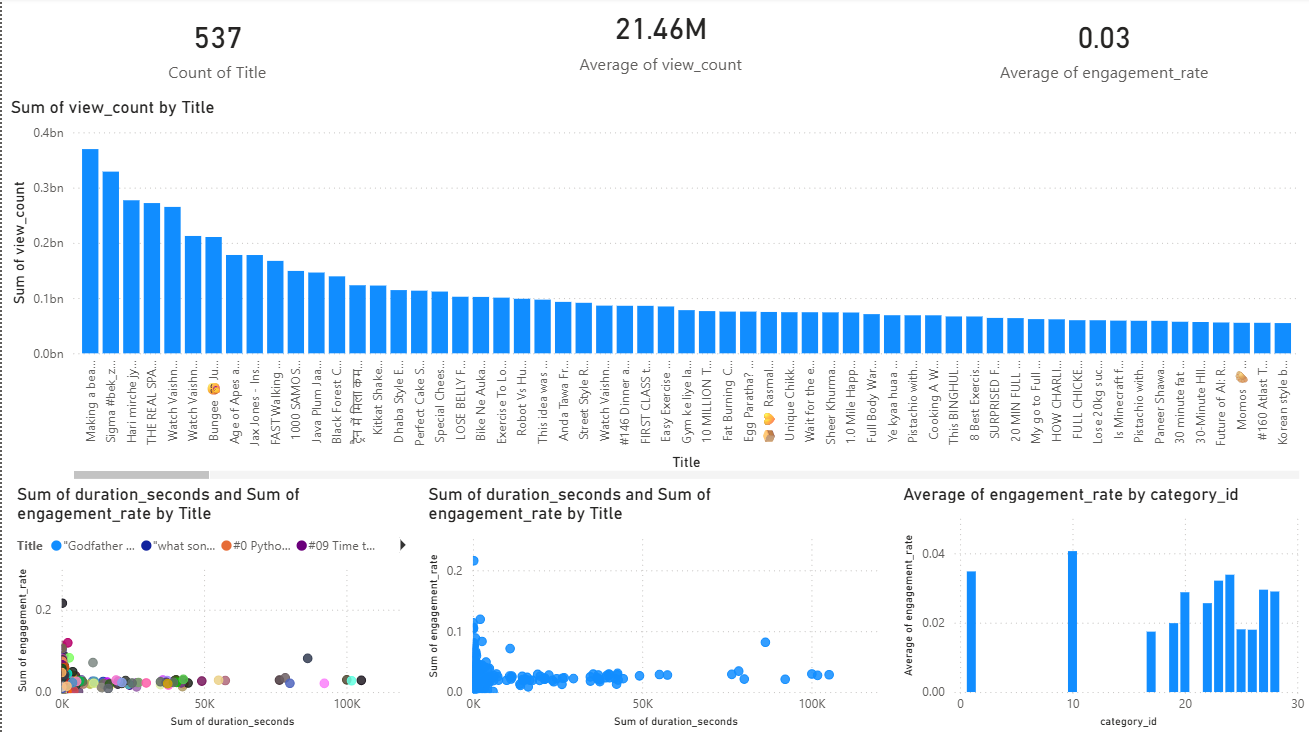

What the dashboard file says about the page in this screenshot:
{"tool":"powerbi","page":{"name":"YouTube Engagement Analytics Dashboard","canvas":[1280,720],"ordinal":4},"visuals":[{"type":"card","fields":{"Values":["CountNonNull(youtube_engagement_analysis.Title)"]},"box":[9.6,0,402.1,97.4],"z":0},{"type":"card","fields":{"Values":["Avg(youtube_engagement_analysis.view_count)"]},"box":[411.7,0,465.2,81],"z":1},{"type":"card","fields":{"Values":["Avg(youtube_engagement_analysis.engagement_rate)"]},"box":[876.8,0,403.4,97.4],"z":2},{"type":"clusteredColumnChart","fields":{"Category":["youtube_engagement_analysis.Title"],"Y":["Sum(youtube_engagement_analysis.view_count)"]},"box":[4.1,97.4,1270.7,378.7],"z":3},{"type":"scatterChart","fields":{"X":["Sum(youtube_engagement_analysis.duration_seconds)"],"Y":["Sum(youtube_engagement_analysis.engagement_rate)"],"Series":["youtube_engagement_analysis.Title"]},"box":[9.6,476.2,402.1,244.3],"z":4},{"type":"scatterChart","fields":{"X":["Sum(youtube_engagement_analysis.duration_seconds)"],"Y":["Sum(youtube_engagement_analysis.engagement_rate)"],"Category":["youtube_engagement_analysis.Title"]},"box":[411.7,476.2,465.2,244.3],"z":5},{"type":"columnChart","fields":{"Category":["youtube_engagement_analysis.category_id"],"Y":["Avg(youtube_engagement_analysis.engagement_rate)"]},"box":[876.8,476.2,403.4,244.3],"z":6}]}

Visuals, with their boxes in screenshot pixels (x1, y1, x2, y2), scaled from the page's 1280x720 canvas onto the 1309x732 screenshot:
card - CountNonNull(youtube_engagement_analysis.Title): bbox=[10, 0, 421, 99]
card - Avg(youtube_engagement_analysis.view_count): bbox=[421, 0, 897, 82]
card - Avg(youtube_engagement_analysis.engagement_rate): bbox=[897, 0, 1308, 99]
clusteredColumnChart - youtube_engagement_analysis.Title x Sum(youtube_engagement_analysis.view_count): bbox=[4, 99, 1304, 484]
scatterChart - Sum(youtube_engagement_analysis.duration_seconds) x Sum(youtube_engagement_analysis.engagement_rate): bbox=[10, 484, 421, 731]
scatterChart - Sum(youtube_engagement_analysis.duration_seconds) x Sum(youtube_engagement_analysis.engagement_rate): bbox=[421, 484, 897, 731]
columnChart - youtube_engagement_analysis.category_id x Avg(youtube_engagement_analysis.engagement_rate): bbox=[897, 484, 1308, 731]
